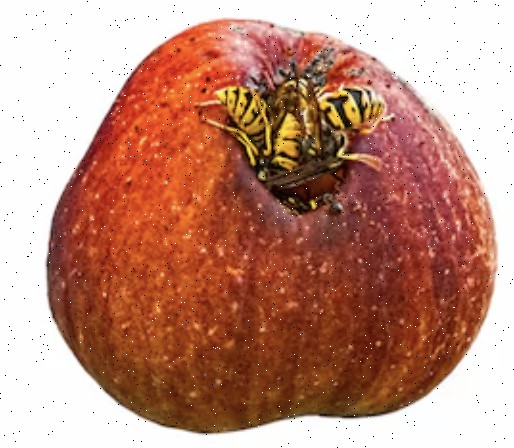rotten_apple: (47, 15, 500, 436)
